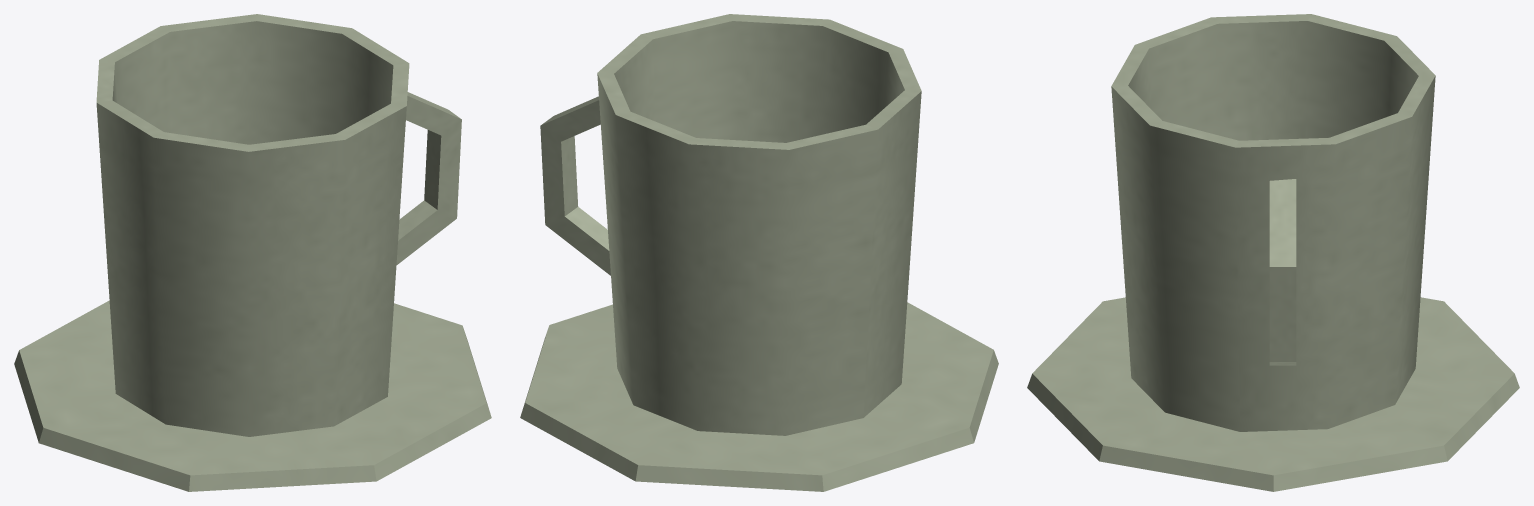
Rendered from Cup_2.fbx.
The picture shows the model from 3 angles, left to right: view 1: azimuth 30°, elevation 25°; view 2: azimuth 150°, elevation 25°; view 3: azimuth 270°, elevation 25°; orthographic projection.
Parts seen in each view (by area): view 1: polySurface1540; view 2: polySurface1540; view 3: polySurface1540.
Part boxes in pixels (box(x1,y1,x2,y2)): polySurface1540: box(14, 14, 491, 491); polySurface1540: box(520, 14, 998, 491); polySurface1540: box(1027, 14, 1519, 491).
Bounding box in the file's own units: 0.303 × 0.2083 × 0.303.
